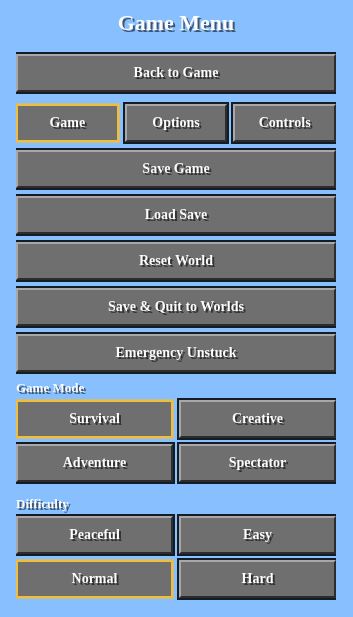
Test: PauseMenu › cancel backs out of the reset confirmation
Click the button "Reset World": (176, 261) [16,242,336,280]
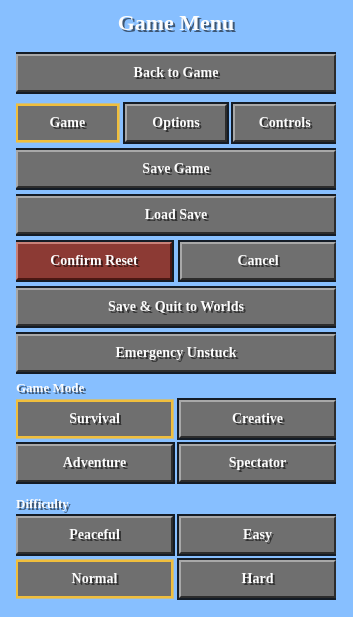
Click the button "Cancel": (258, 261) [180,242,336,280]
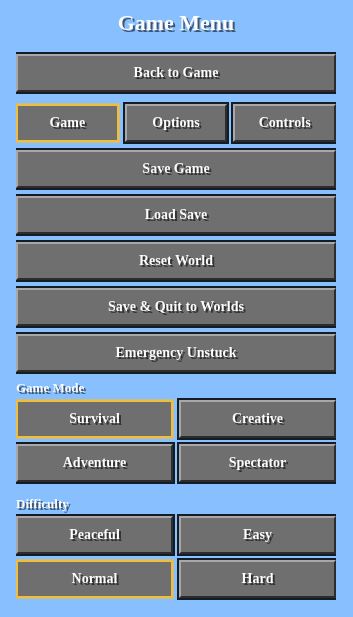
Check: the button "Reset World" is shown, box [16,242,336,280]
